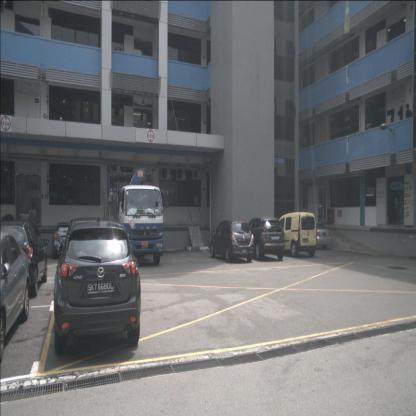human-pedestrian-adult: (404, 103, 412, 139), (317, 200, 323, 227)
vehicle-car: (54, 218, 141, 353), (0, 232, 30, 365), (0, 221, 48, 298), (274, 212, 315, 258), (243, 218, 285, 261), (210, 221, 253, 262), (52, 222, 76, 259), (308, 223, 331, 250)
vehicle-truck: (108, 168, 163, 264)
